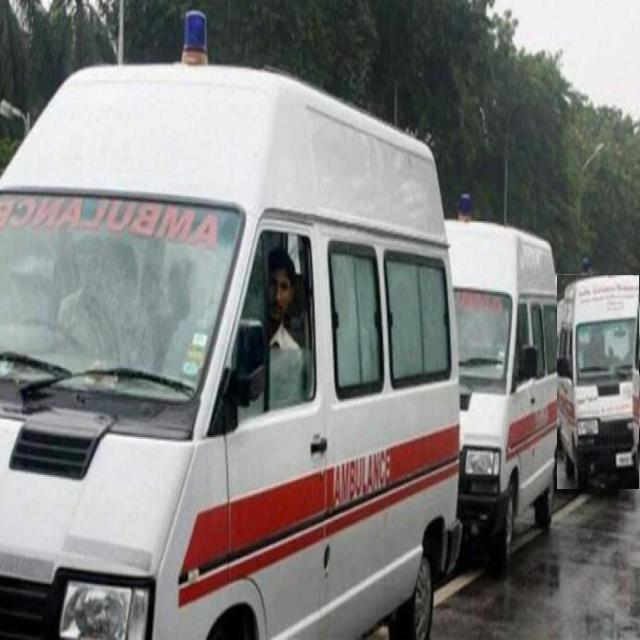emergency: (0, 64, 460, 638), (445, 220, 564, 573), (558, 275, 639, 489)
